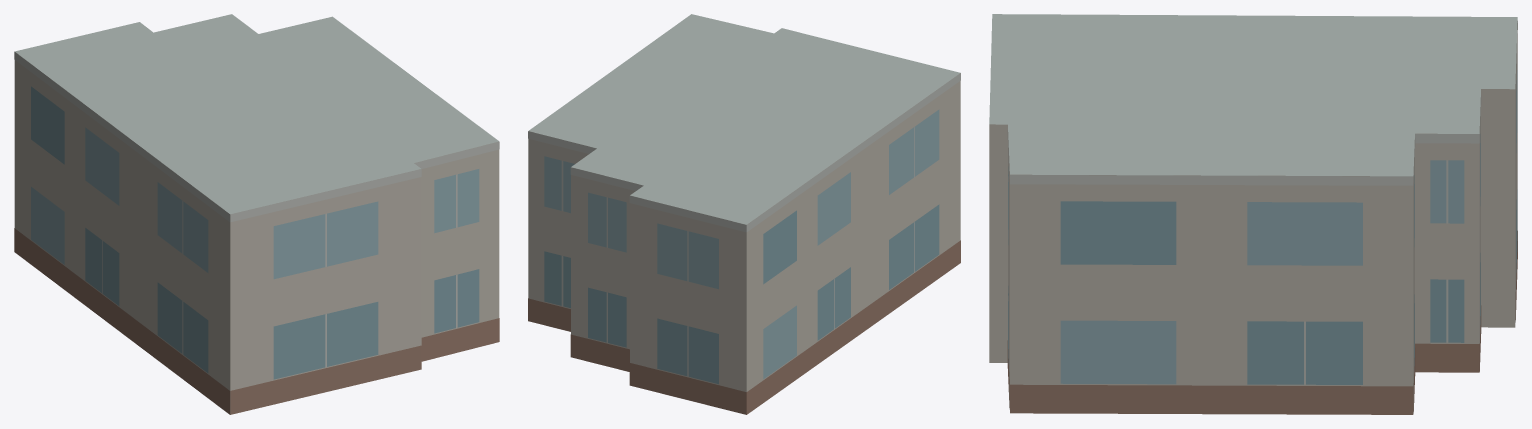
File: survey-upis-32709054.glb
3 renders of one model, left to right at view 1: azimuth 30°, elevation 25°; view 2: azimuth 150°, elevation 25°; view 3: azimuth 270°, elevation 25°, orthographic. The views are drawn at different scales.
Parts seen in each view (by area): view 1: survey-upis-32709054.tmp; view 2: survey-upis-32709054.tmp; view 3: survey-upis-32709054.tmp.
Part boxes in pixels (box(x1,y1,x2,y2)): survey-upis-32709054.tmp: box(14, 14, 499, 414); survey-upis-32709054.tmp: box(528, 14, 960, 414); survey-upis-32709054.tmp: box(989, 14, 1517, 414).
Bounding box in the file's own units: 8.91 × 6.1 × 12.26.
